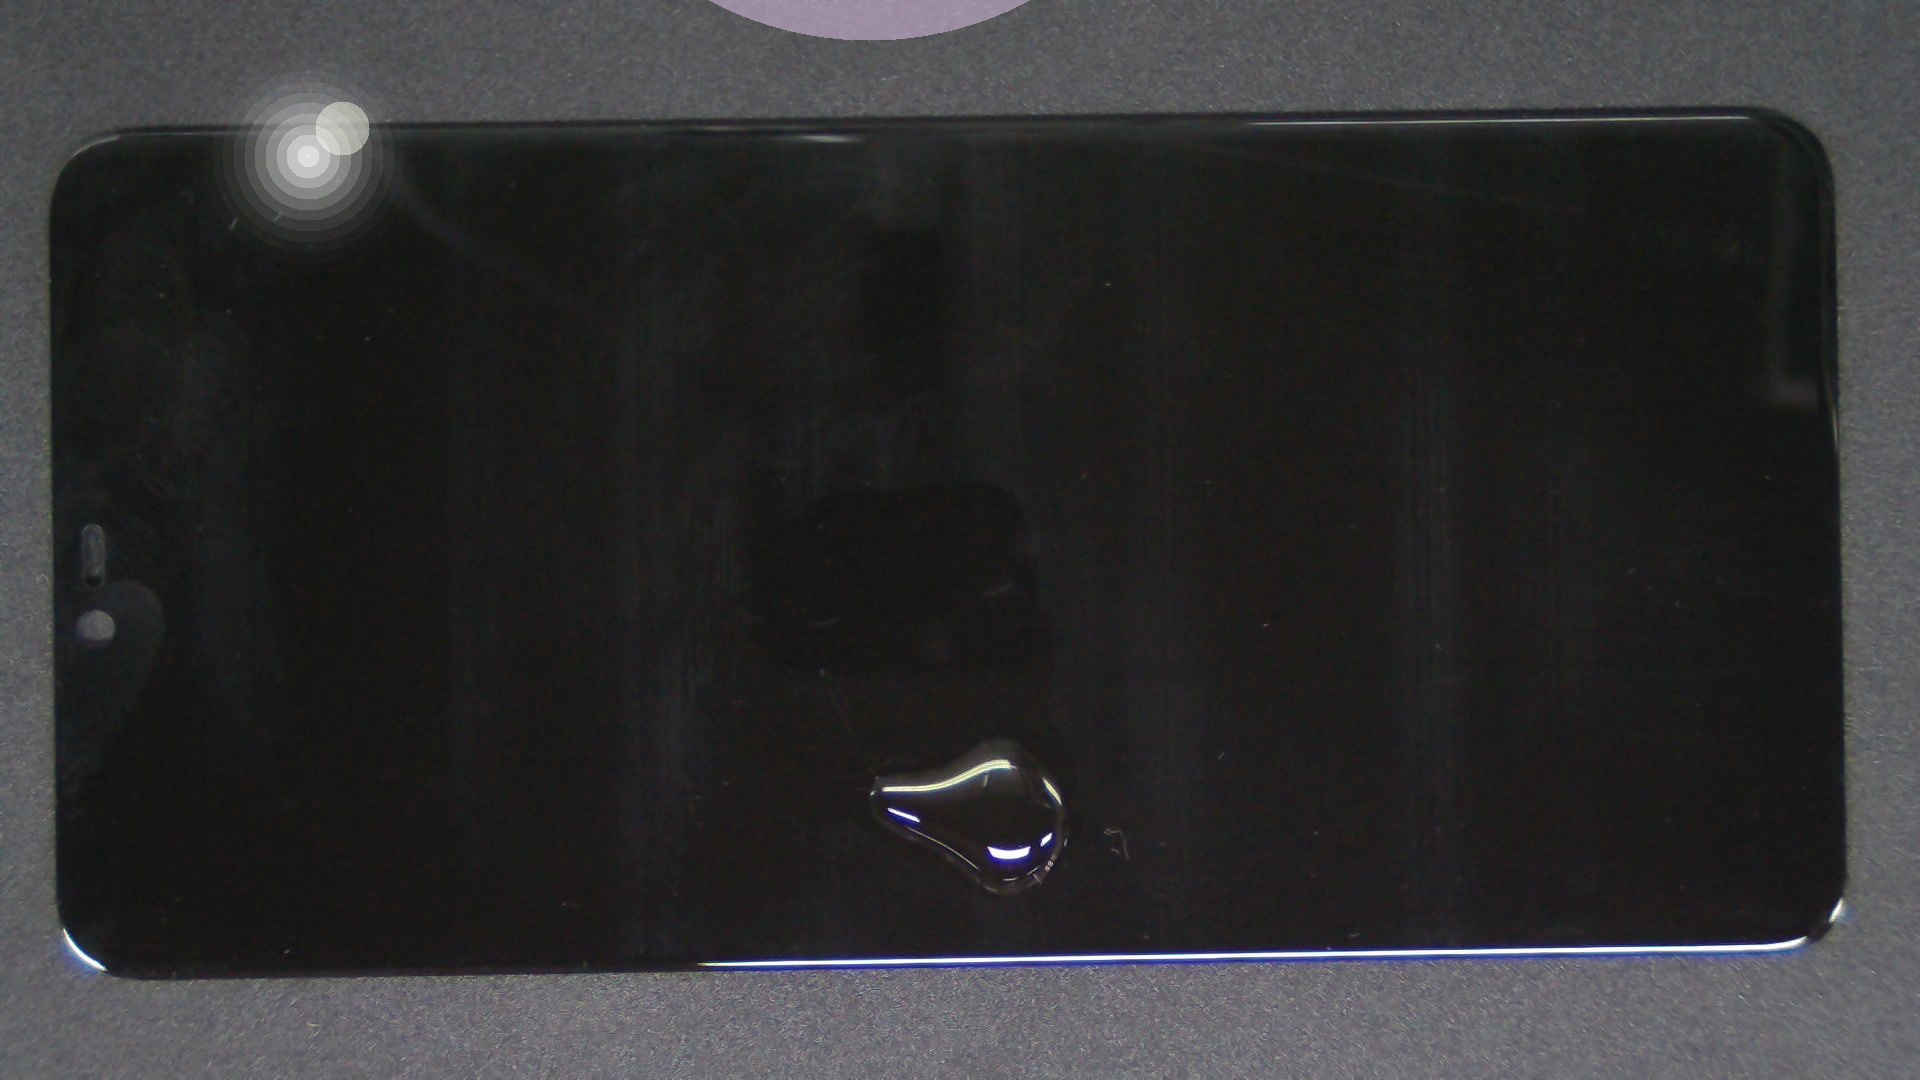oil: (497, 368, 1489, 1080)
